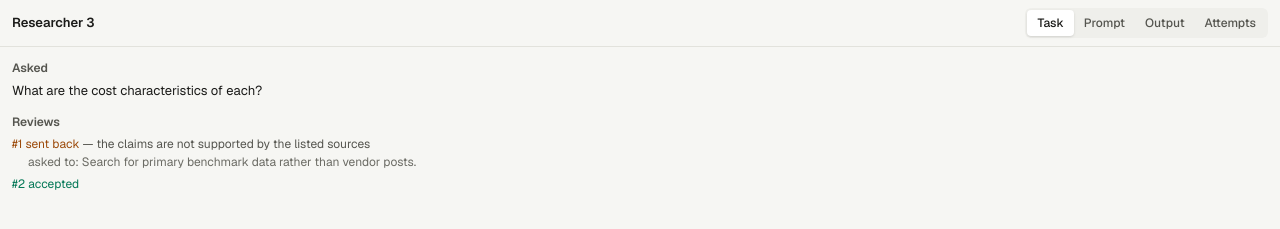
Test: the prompt tab › copying a prompt › puts the message on the clipboard verbatim, and says so once it is there
Click the tab "Prompt": x=1104, y=23 [1074, 10, 1135, 36]
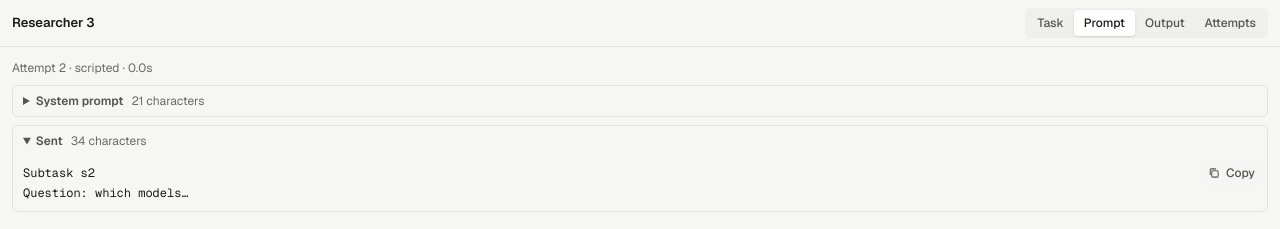
Check: the text "Subtask s2 Question: which models…" is shown, box [23, 165, 189, 200]
Click the button "Copy": x=1232, y=173 [1200, 160, 1263, 186]
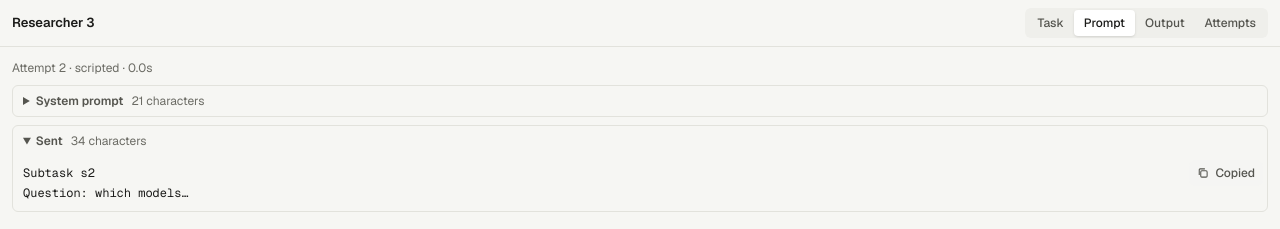
Check: the button "Copied" is shown, box [1189, 160, 1263, 186]
